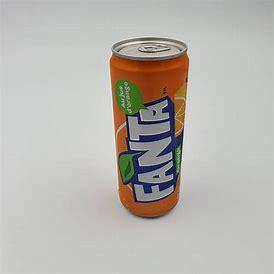metal: (110, 38, 189, 217)
